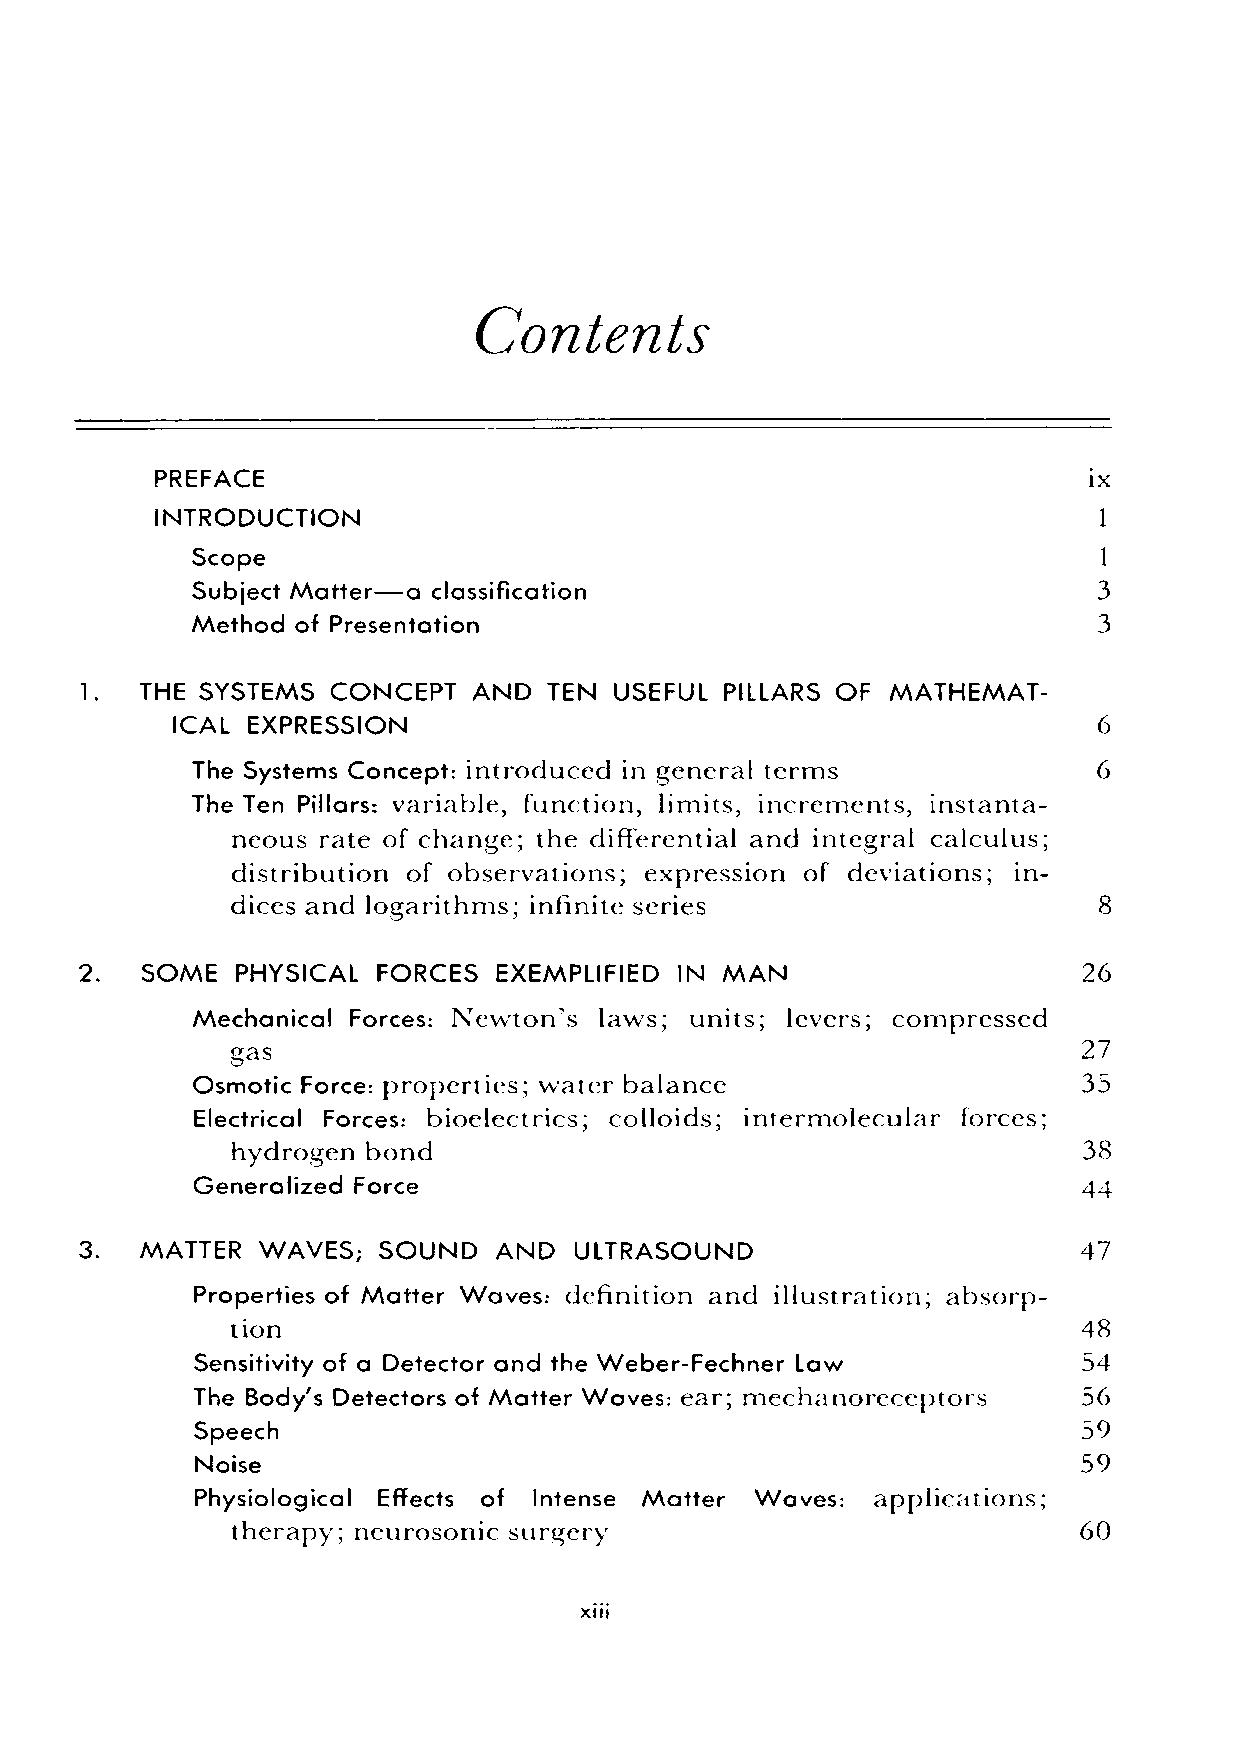TOC_chapter: (189, 790, 1049, 919), (76, 676, 1053, 735), (192, 1004, 1049, 1068), (185, 1282, 1047, 1345), (191, 1486, 1049, 1545), (191, 1104, 1047, 1162), (192, 1384, 990, 1412), (72, 960, 790, 988), (193, 1349, 847, 1380), (72, 1236, 758, 1264), (191, 756, 841, 784), (189, 1074, 737, 1099), (191, 578, 590, 604), (191, 611, 484, 637), (148, 502, 368, 531), (191, 1172, 423, 1197), (149, 462, 268, 488), (192, 1418, 285, 1440), (191, 1451, 262, 1476), (191, 545, 262, 569)
TOC_pagenumber: (1078, 1451, 1115, 1479), (1082, 1133, 1115, 1162), (1080, 1312, 1115, 1339), (1082, 1031, 1110, 1062), (1078, 1515, 1110, 1542), (1074, 1239, 1111, 1260), (1082, 1416, 1113, 1441), (1082, 1070, 1111, 1095), (1079, 960, 1108, 982), (1082, 1381, 1107, 1406), (1091, 706, 1115, 733), (1092, 754, 1115, 781), (1084, 1176, 1111, 1198), (1082, 1349, 1108, 1372), (1084, 464, 1108, 488), (1099, 612, 1117, 640), (1095, 505, 1111, 527), (1099, 890, 1113, 917), (1096, 576, 1113, 597), (1096, 548, 1113, 566)
chapter: (466, 301, 719, 361)
content_pagenumber: (574, 1600, 615, 1621)
